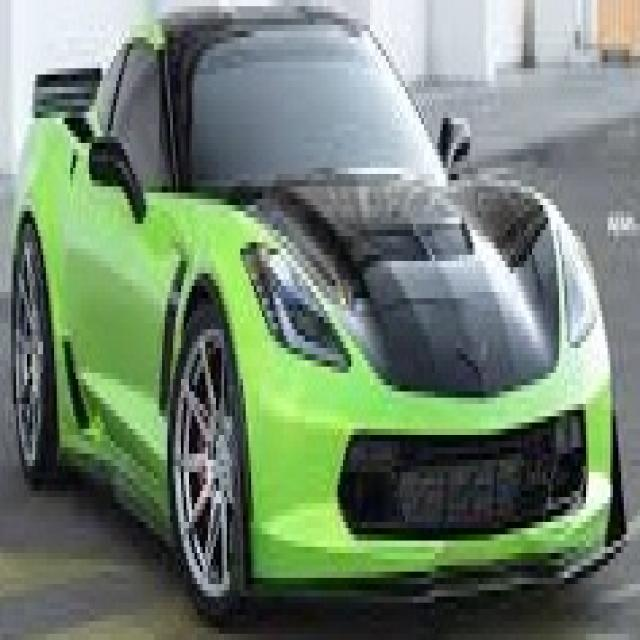green: (14, 6, 628, 615)
